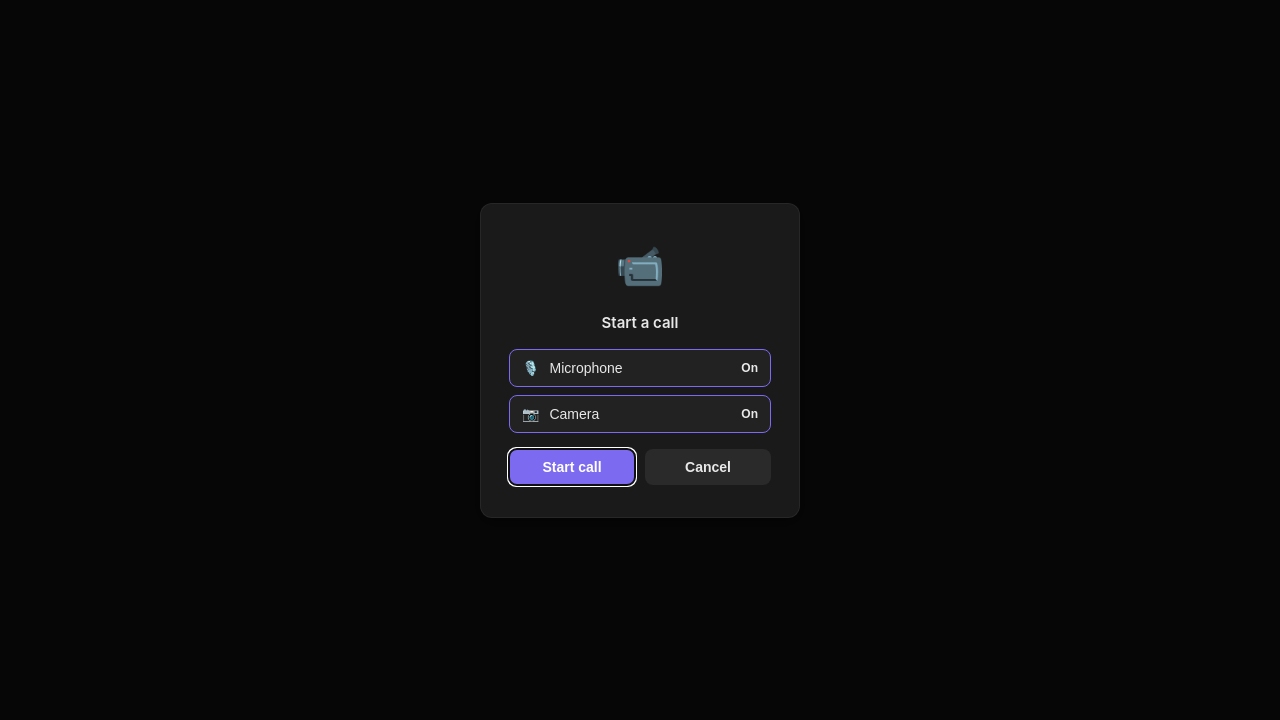
CallSetupModal › shows a camera icon with the camera on, and headphones without it
Expected: the icon with class "call-modal-icon" reads "📹", [615,240,665,290]
Click the switch labelled "Camera" at (574, 414), box [509,394,771,432]
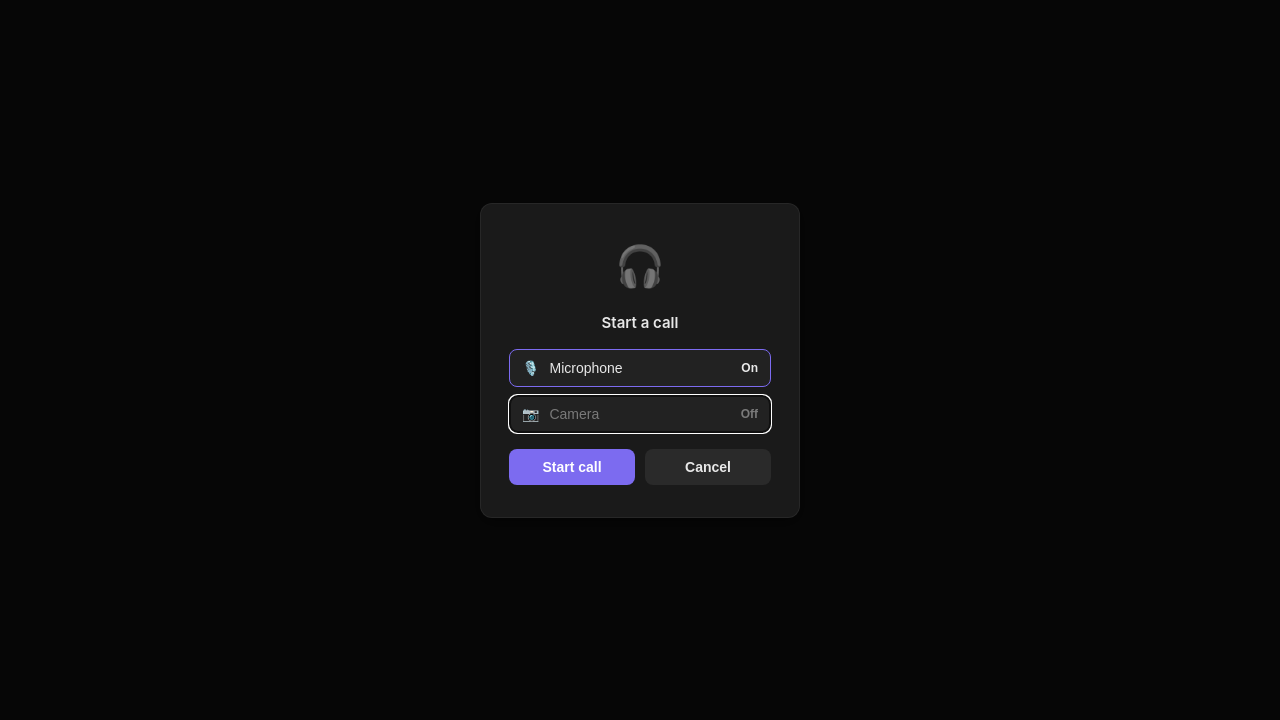
Expected: the icon with class "call-modal-icon" reads "🎧", [615,240,665,290]
